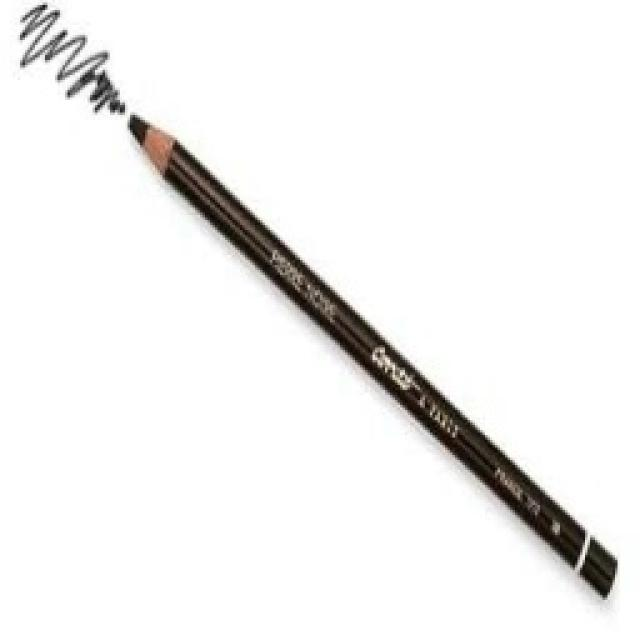pencil: (12, 0, 622, 605)
